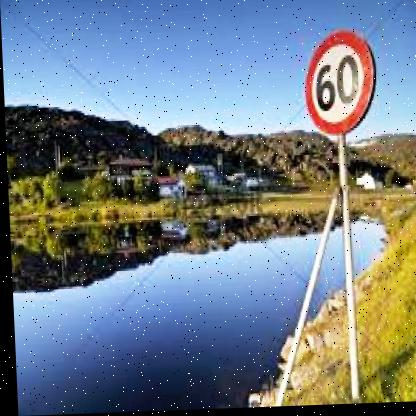Speed Limit -60-: (300, 28, 383, 148)
